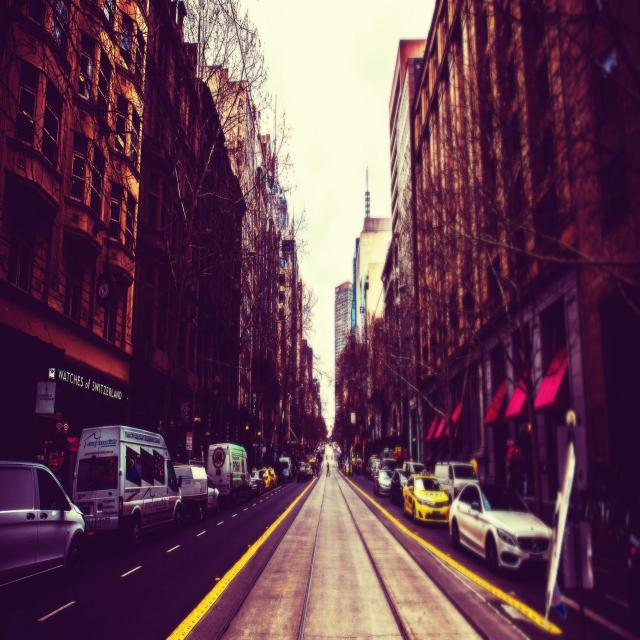airplane: (544, 440, 575, 628)
